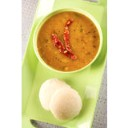idly: (53, 89, 83, 122), (40, 78, 65, 109)
